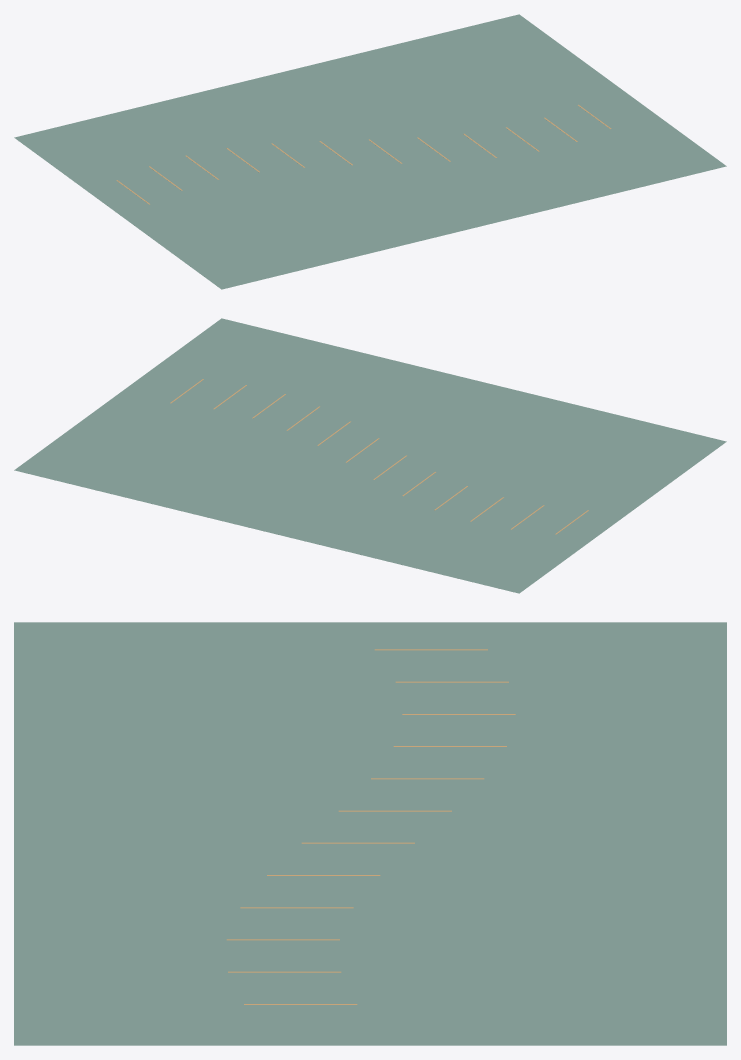
Rendered from 255_L119_L6_LayerReference.glb.
3 renders of one model, top to bottom at view 1: azimuth 30°, elevation 25°; view 2: azimuth 150°, elevation 25°; view 3: azimuth 270°, elevation 25°, orthographic. The views are drawn at different scales.
Parts seen in each view (by area): view 1: 0000__PSMAT__dielectric; view 2: 0000__PSMAT__dielectric; view 3: 0000__PSMAT__dielectric.
Boxes of the visible parts, bbox=[...] form: 0000__PSMAT__dielectric: bbox=[14, 14, 726, 289]; 0000__PSMAT__dielectric: bbox=[14, 318, 726, 593]; 0000__PSMAT__dielectric: bbox=[14, 622, 726, 1045].
Size of the model in its own units: 0.486 by 0.000184 by 0.346.
